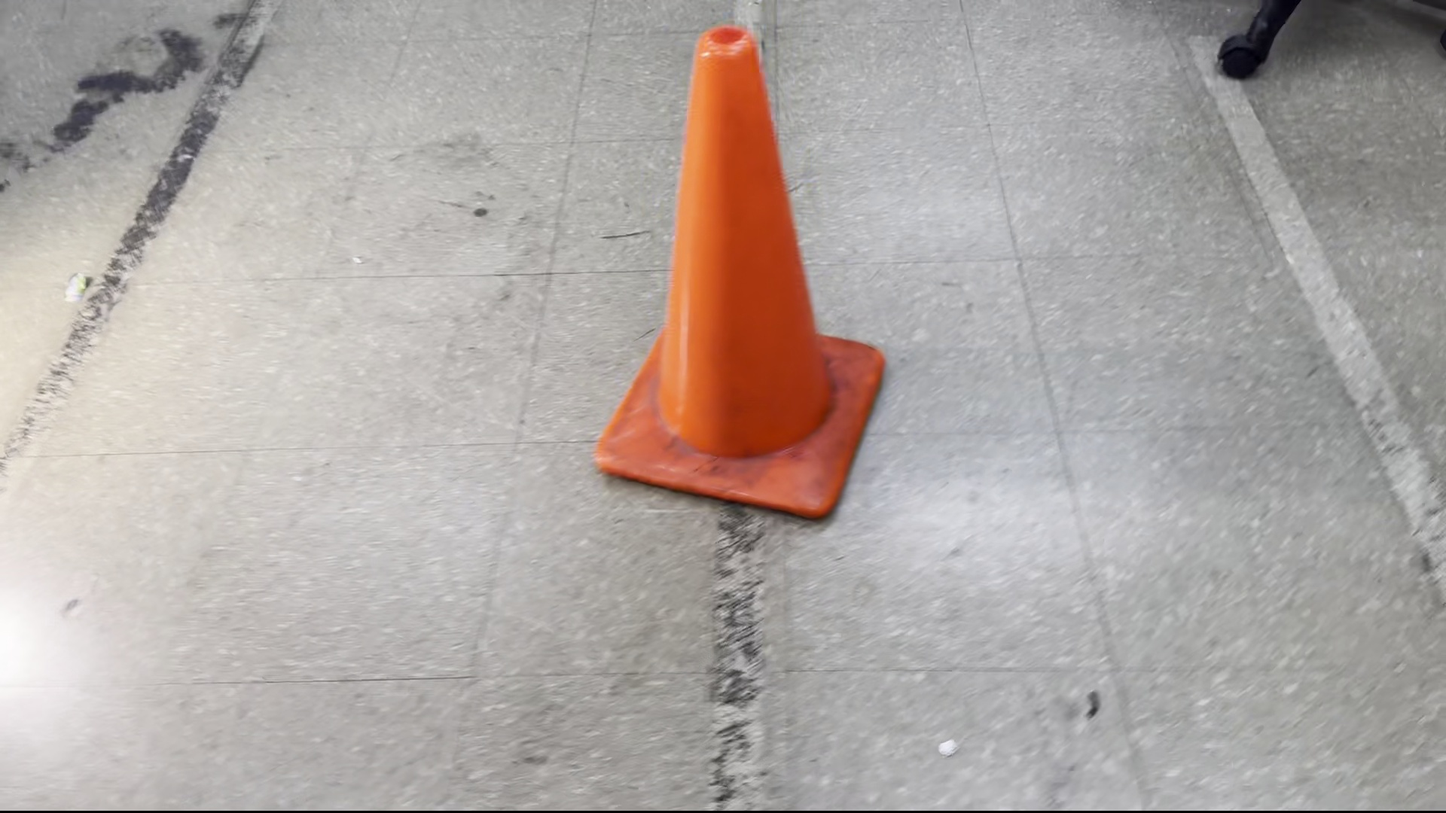traffic_cone: (593, 23, 886, 521)
